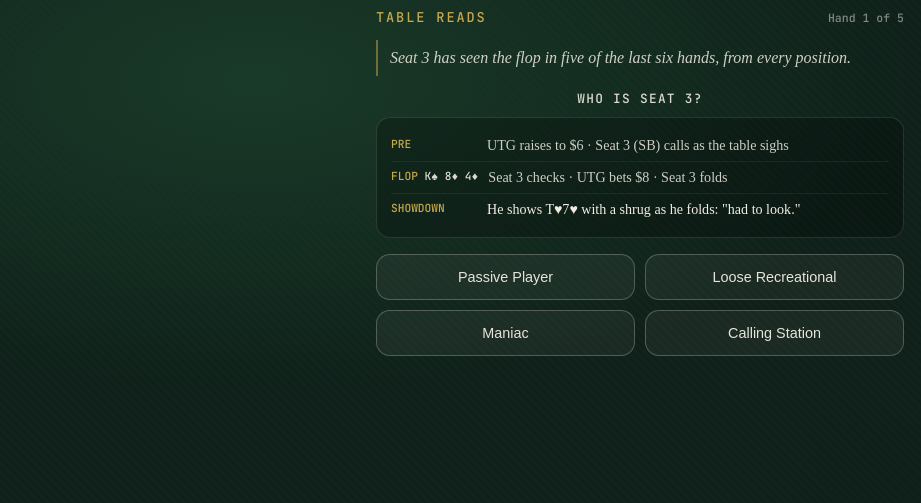
Test: wrong pick shows the specific whyNot for that confusion
Click the button "Calling Station".
click(774, 333)  # box [645,310,904,356]
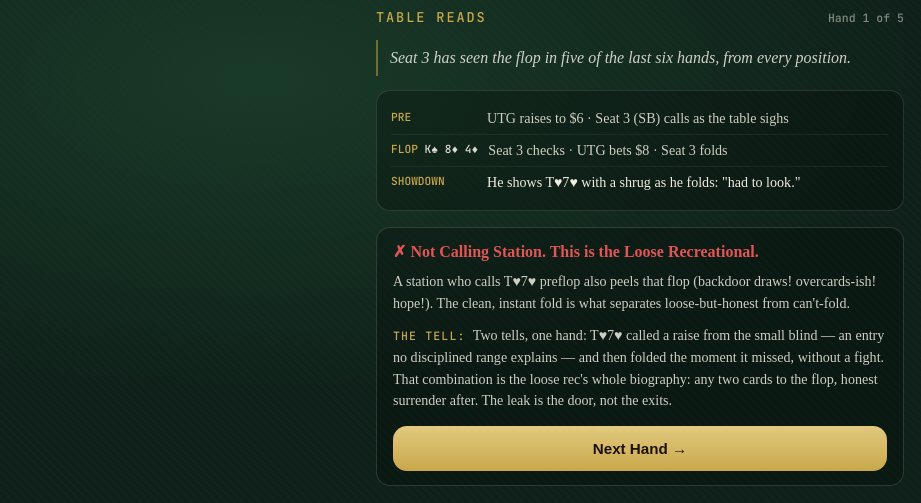
Expected: the text with class "tr-whynot" shows "A station who calls T♥7♥ preflop also pe", [393,273,876,311]
Expected: the text with class "tr-verdict" shows "Loose Recreational", [624,243,755,260]
